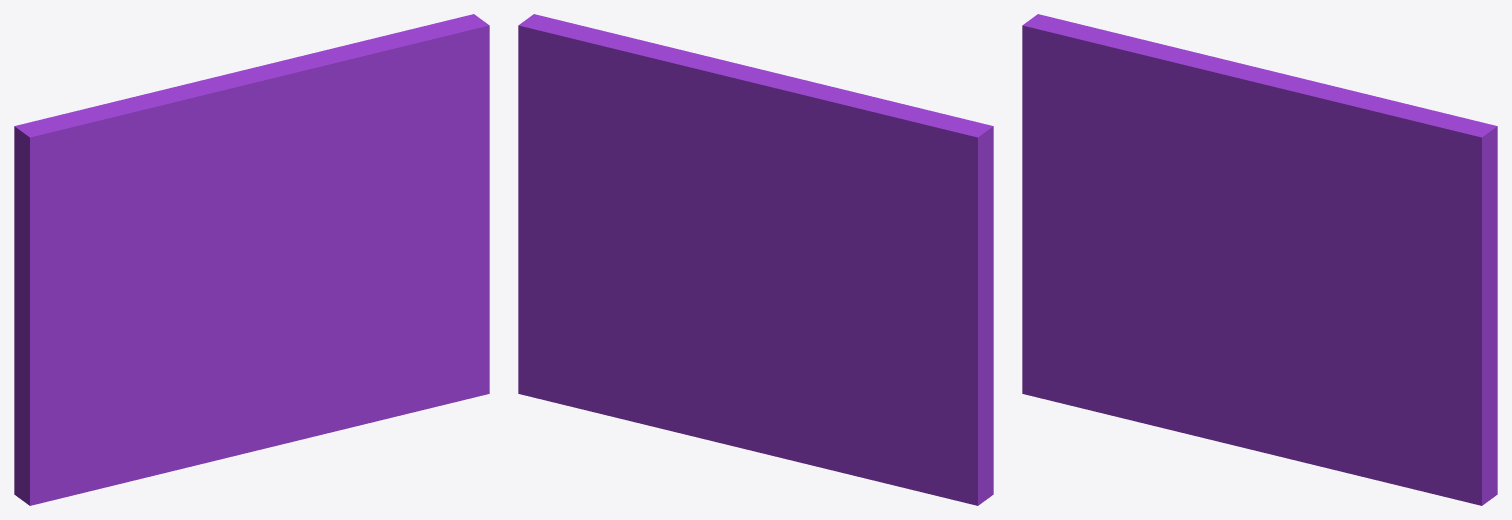
File: Barrier_188_chunks.fbx
3 views of the same model, side by side, from view 1: azimuth 30°, elevation 25°; view 2: azimuth 150°, elevation 25°; view 3: azimuth 330°, elevation 25° (orthographic).
Visible parts, largest first — view 1: Barrier_188_2, Barrier_188_1, Barrier_188_4, Barrier_188_5, Barrier_188_6, Barrier_188_3, Barrier_188_0; view 2: Barrier_188_2, Barrier_188_1, Barrier_188_4, Barrier_188_0, Barrier_188_3, Barrier_188_6, Barrier_188_5; view 3: Barrier_188_2, Barrier_188_1, Barrier_188_4, Barrier_188_5, Barrier_188_6, Barrier_188_3.
Part boxes in pixels (box(x1,y1,x2,y2)): Barrier_188_2: box(265, 14, 489, 404); Barrier_188_1: box(14, 57, 322, 378); Barrier_188_4: box(188, 308, 443, 467); Barrier_188_5: box(16, 366, 193, 505); Barrier_188_6: box(122, 263, 321, 380); Barrier_188_3: box(14, 334, 150, 495); Barrier_188_0: box(14, 326, 27, 408); Barrier_188_2: box(518, 14, 744, 407); Barrier_188_1: box(694, 54, 993, 368); Barrier_188_4: box(577, 307, 843, 473); Barrier_188_0: box(734, 239, 990, 420); Barrier_188_3: box(817, 344, 993, 505); Barrier_188_6: box(705, 283, 841, 369); Barrier_188_5: box(841, 430, 993, 504); Barrier_188_2: box(1257, 83, 1497, 505); Barrier_188_1: box(1022, 14, 1321, 266); Barrier_188_4: box(1180, 338, 1436, 494); Barrier_188_5: box(1022, 313, 1185, 432); Barrier_188_6: box(1114, 265, 1313, 348); Barrier_188_3: box(1022, 266, 1143, 328).
Size of the model in its own units: 376 by 288 by 22.1.
